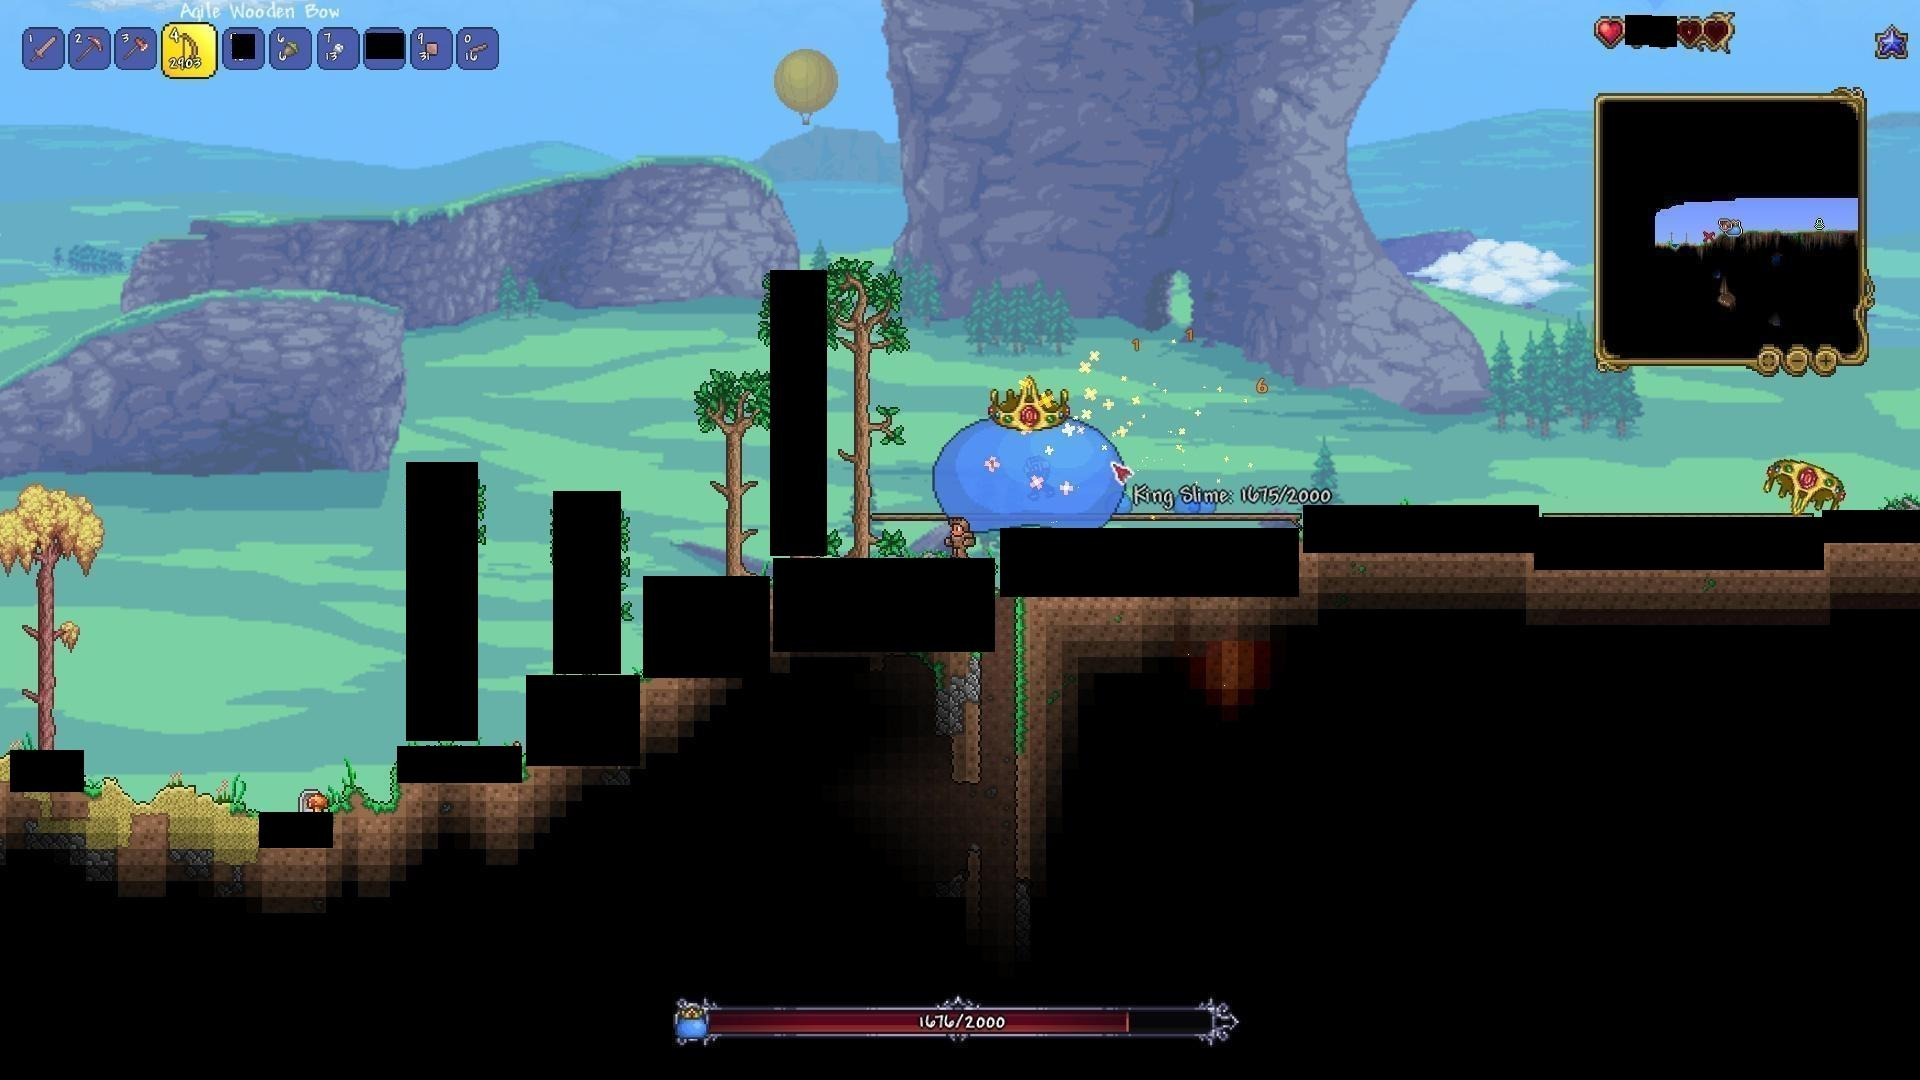dirt: (1007, 596, 1047, 749), (340, 785, 394, 829)
heart: (1596, 15, 1625, 44)
tree: (3, 475, 94, 746), (831, 260, 898, 556), (698, 357, 769, 575)
